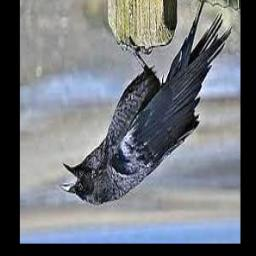Crow: (59, 0, 232, 207)
